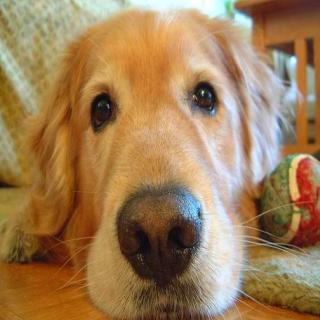dog: (20, 15, 287, 314)
nose: (106, 184, 210, 288)
